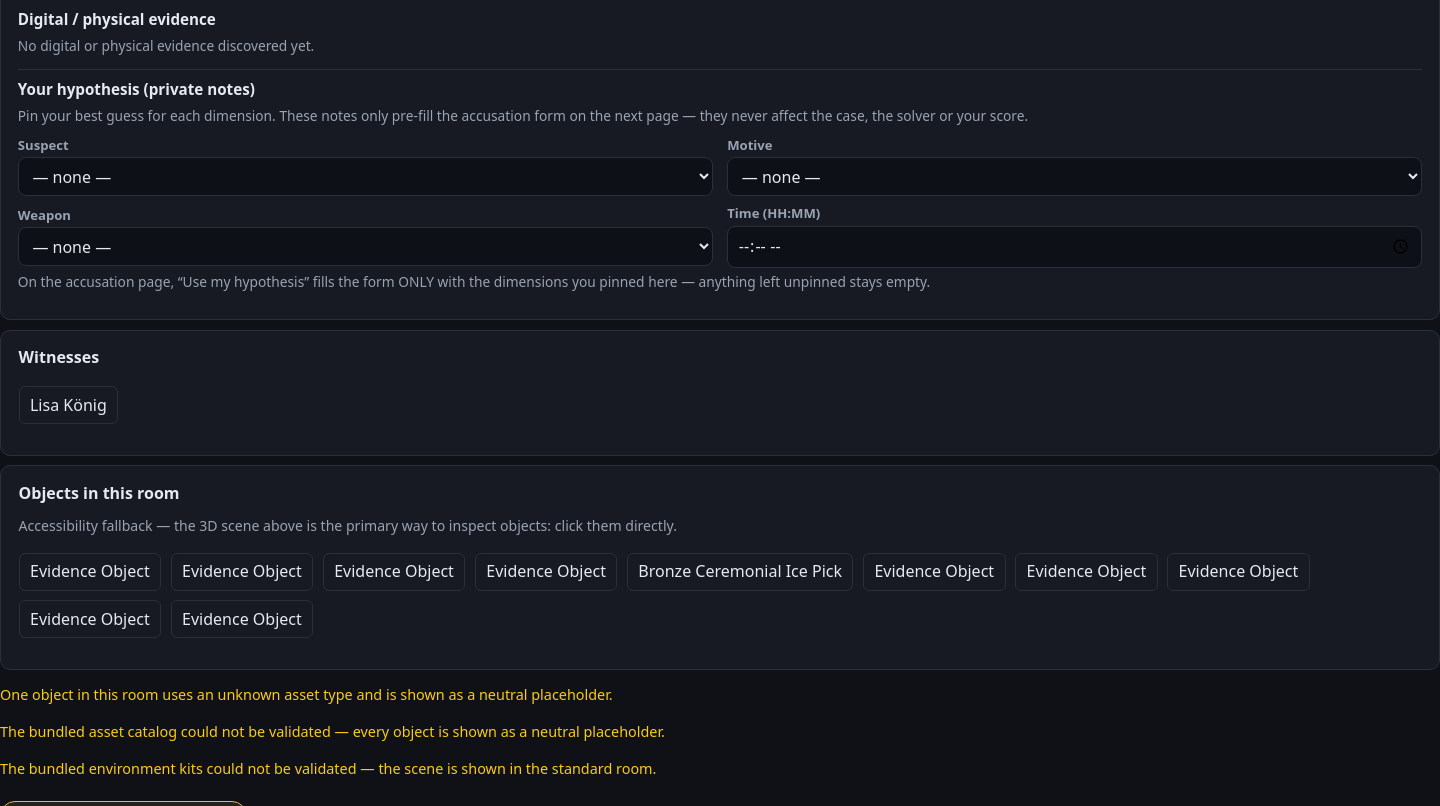
Scenario: Phase 39 — fresh saved replay starts with ZERO answered witness questions › generated-shape parity: a generated replay file loads with empty asked markers
(page scrolled)
What coordinates should you click on to do the following:
click the button with test id "witness-lisa_koenig"
I would click on:
 (68, 405)
Its box is [19,386,118,424].
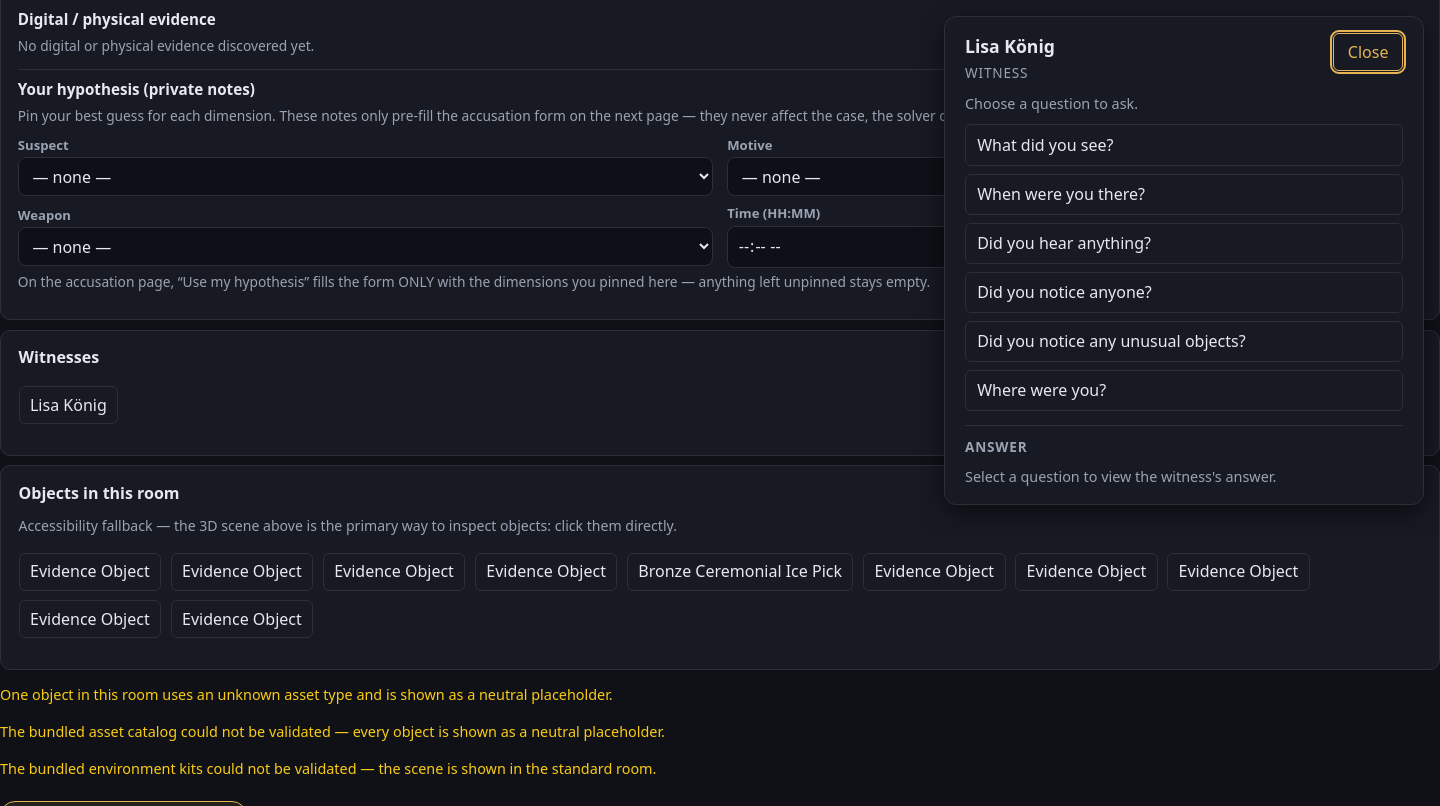
expect the text "Select a question to view the witness's answer." is shown: met, box [965,466,1276,486]
